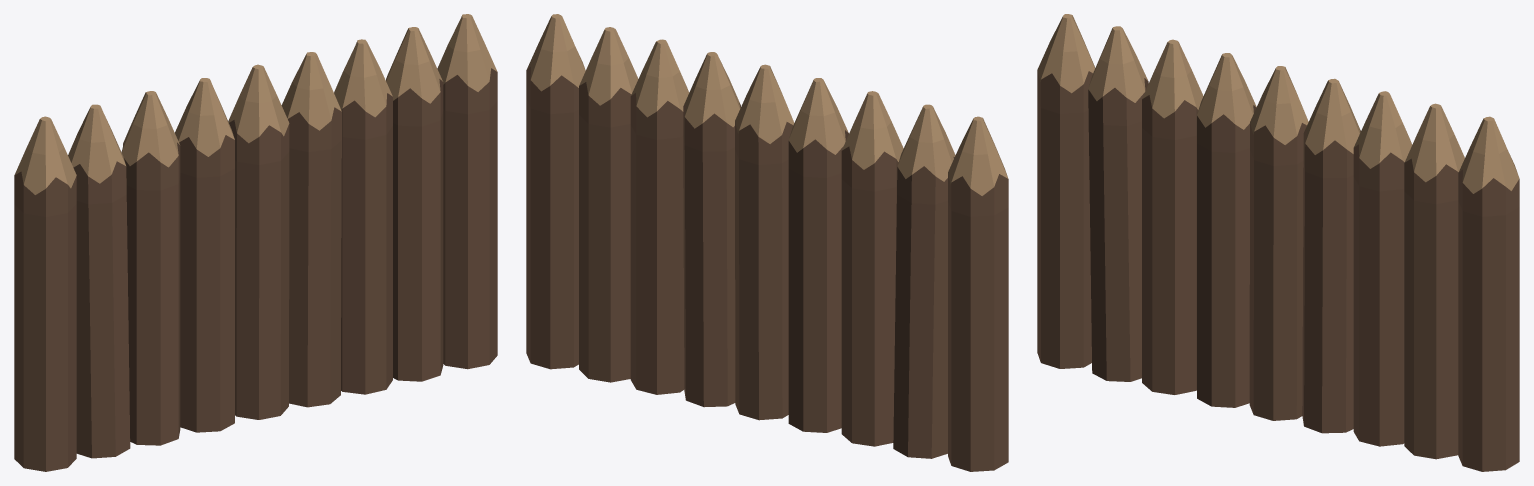
File: PikeWall(N).fbx
3 views of the same model, side by side, from view 1: azimuth 30°, elevation 25°; view 2: azimuth 150°, elevation 25°; view 3: azimuth 330°, elevation 25° (orthographic).
Parts seen in each view (by area): view 1: PikeWall(N); view 2: PikeWall(N); view 3: PikeWall(N).
Part boxes in pixels (x1=…): PikeWall(N): x1=14, y1=14, x2=497, y2=471; PikeWall(N): x1=526, y1=14, x2=1008, y2=471; PikeWall(N): x1=1037, y1=14, x2=1519, y2=471.
Size of the model in its own units: 1747 by 1203 by 200.
